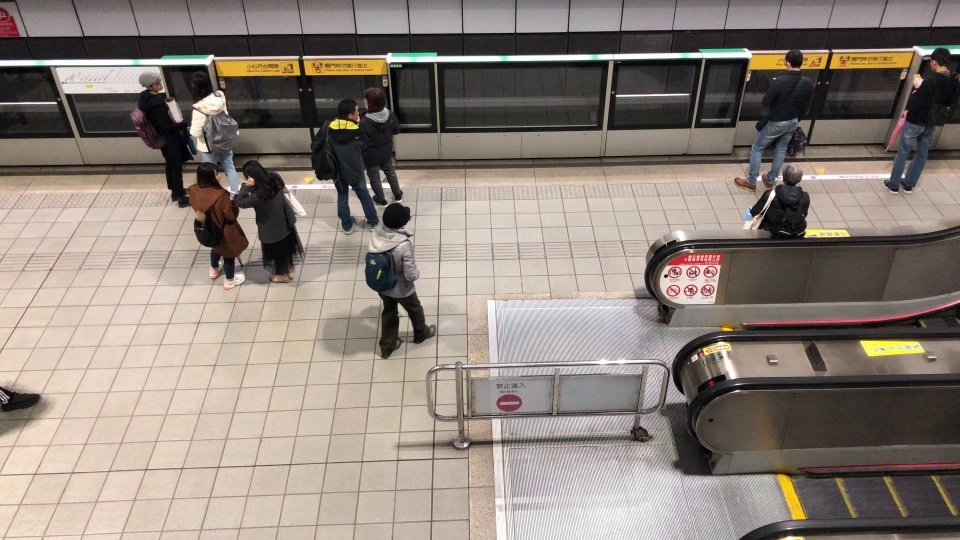person_head: (380, 201, 413, 233), (193, 162, 222, 190), (925, 46, 953, 75), (332, 98, 362, 122), (361, 86, 388, 112), (189, 74, 214, 100), (137, 71, 165, 93), (780, 163, 804, 187), (241, 158, 264, 183), (782, 49, 806, 71)
person_vbox: (355, 202, 440, 359), (879, 45, 957, 200), (733, 48, 814, 194), (304, 97, 383, 236), (123, 70, 198, 208), (232, 157, 308, 287), (176, 162, 251, 291), (181, 74, 244, 198), (354, 86, 406, 209), (747, 163, 812, 241)
